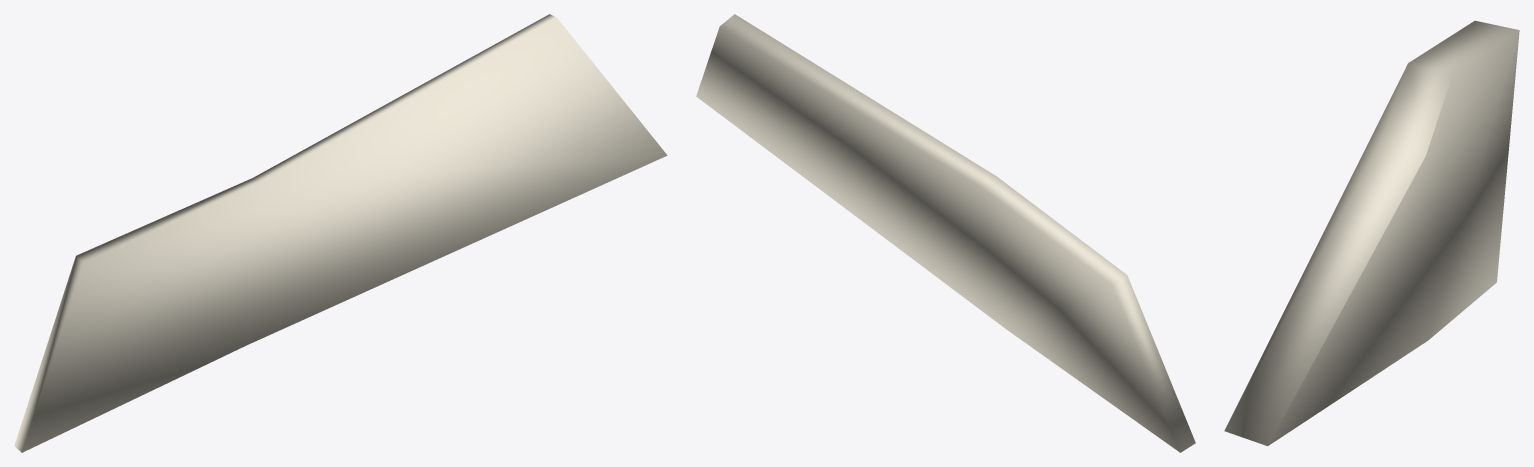
3 views of the same model, side by side, from view 1: azimuth 30°, elevation 25°; view 2: azimuth 150°, elevation 25°; view 3: azimuth 270°, elevation 25° (orthographic). The views are drawn at different scales.
Parts seen in each view (by area): view 1: ZA_2e0677e472c522a1; view 2: ZA_2e0677e472c522a1; view 3: ZA_2e0677e472c522a1.
Part boxes in pixels (x1,y1,x2,y2): ZA_2e0677e472c522a1: (14,14,667,452); ZA_2e0677e472c522a1: (696,14,1195,452); ZA_2e0677e472c522a1: (1224,20,1519,446).
Size of the model in its own units: 0.0136 by 0.00722 by 0.0032.
